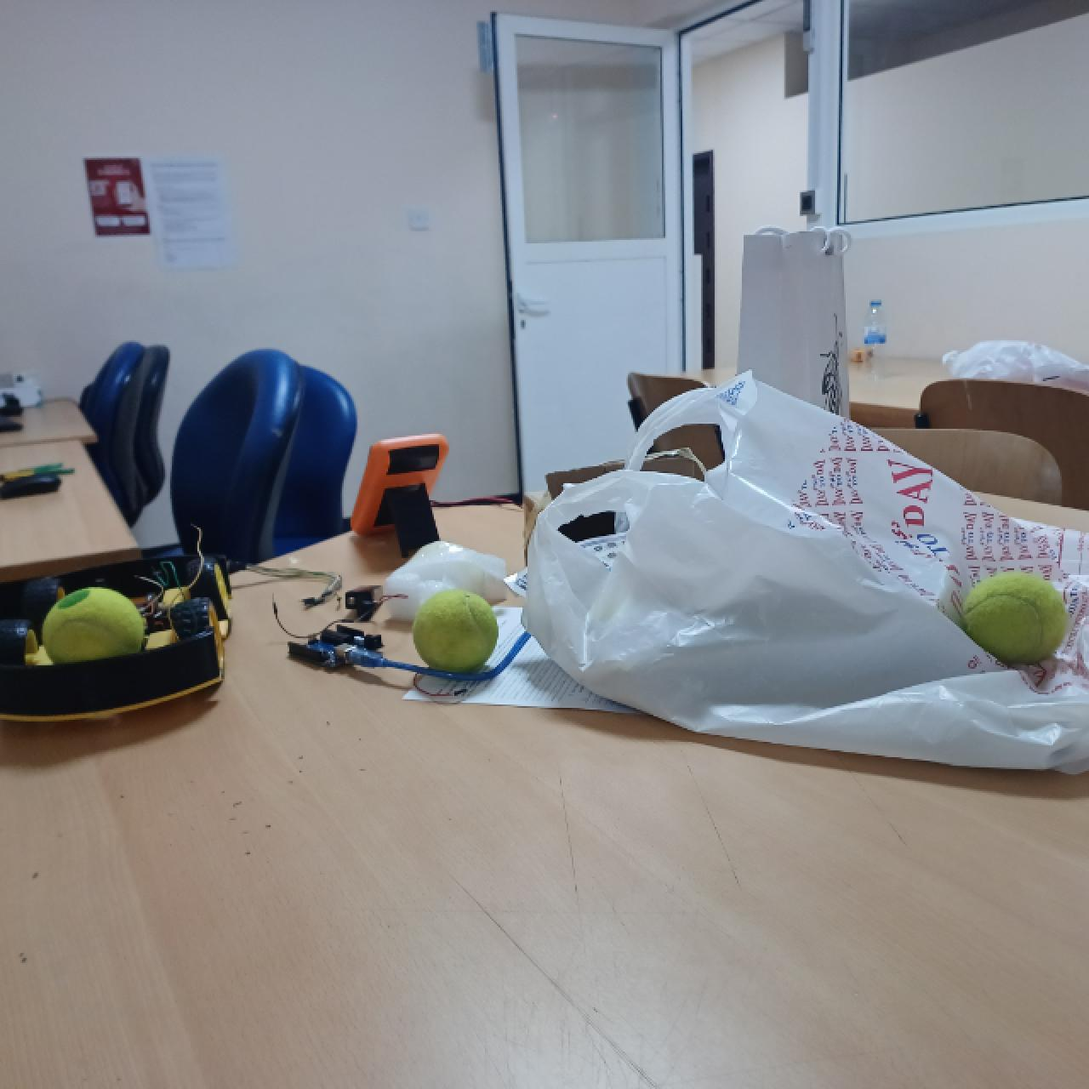tennis-ball: (961, 572, 1066, 666), (42, 585, 144, 676), (414, 588, 498, 674)
